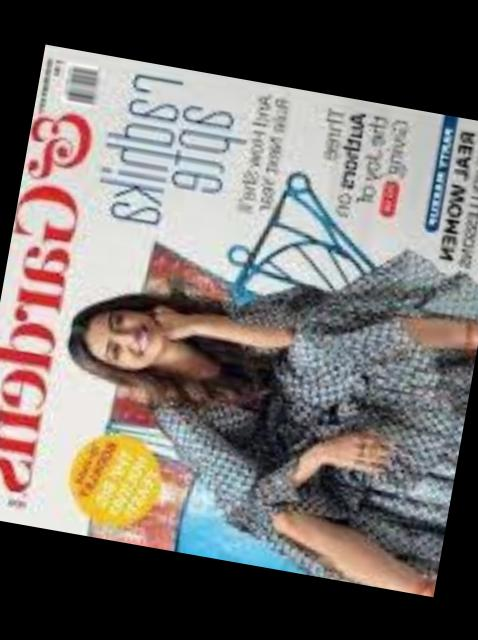cardboard paper: (0, 43, 478, 597)
